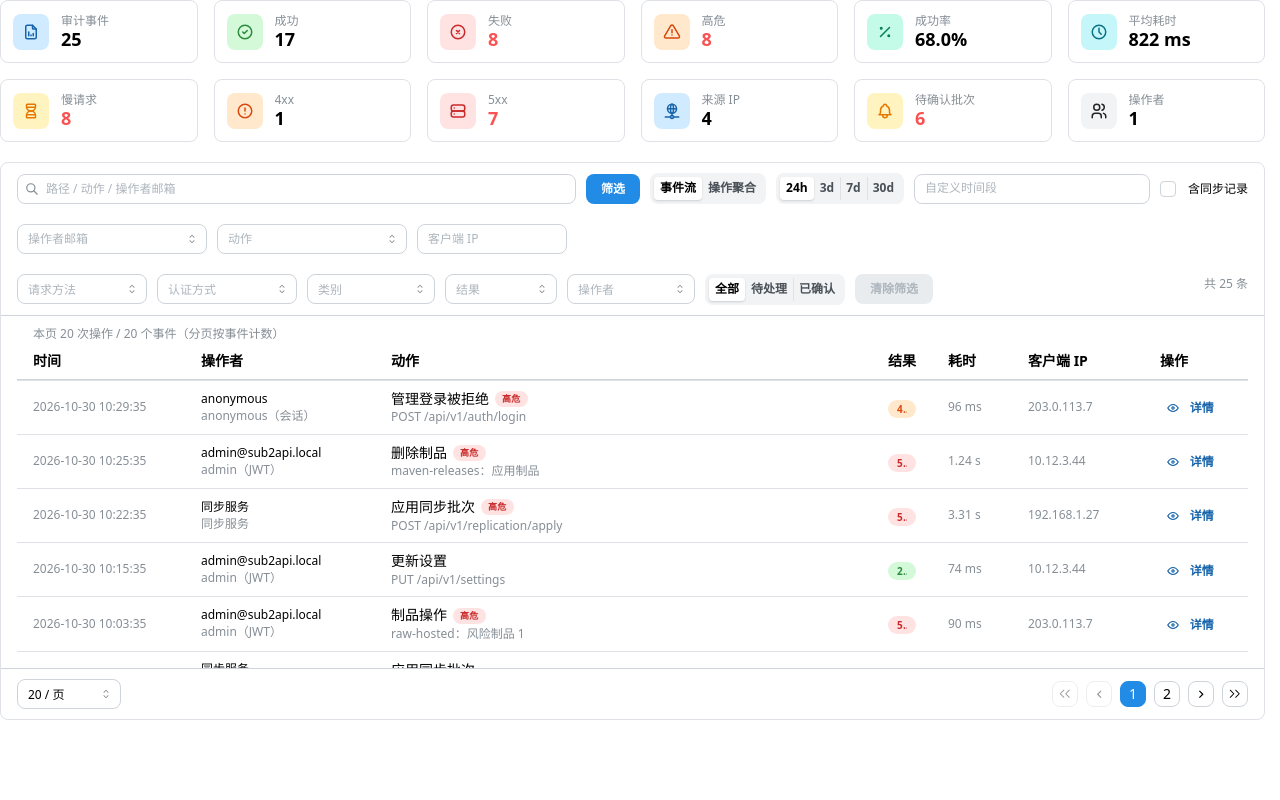
Test: 审计工作台（筛选与搜索） › 关键字搜索过滤列表，清除筛选可恢复
Type "不存在的对象" into the field with placeholder "路径 / 动作 / 操作者邮箱" at (296, 189), box x1=17 y1=174 x2=576 y2=204
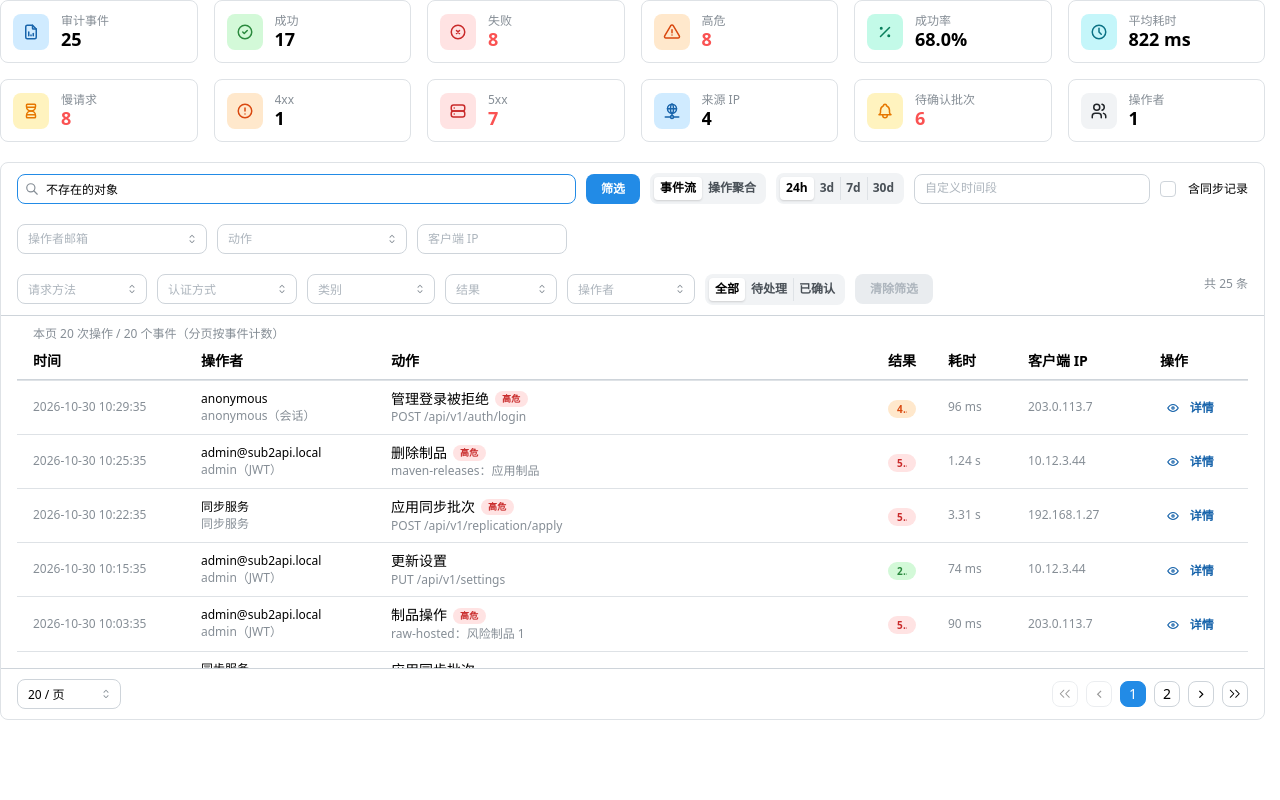
Click the button "筛选" at (613, 189), box x1=586 y1=174 x2=640 y2=204
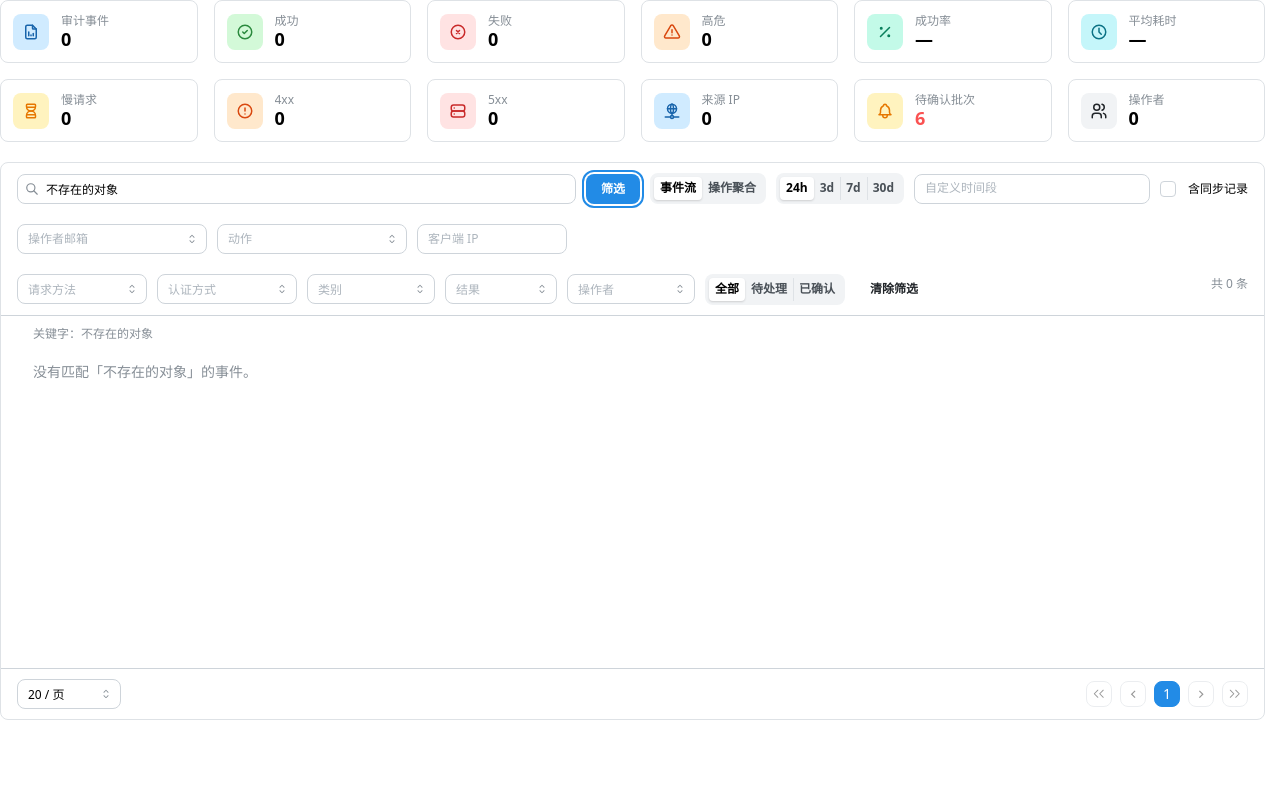
Expected: the text "共 0 条" is shown, x1=1211 y1=276 x2=1248 y2=293
Click the button "清除筛选" at (894, 289), box x1=855 y1=274 x2=933 y2=304
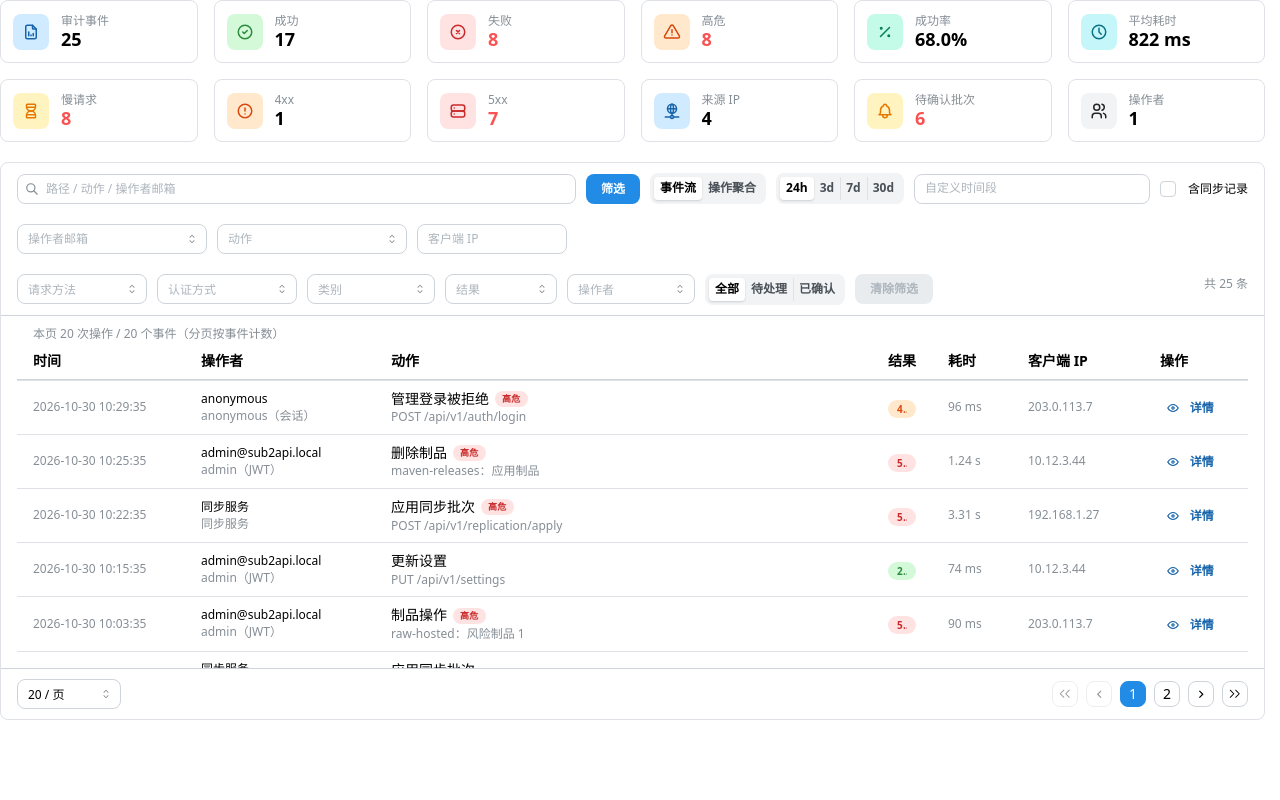
Result: the button with aria-label "审计事件：" is shown at x1=17 y1=380 x2=1248 y2=435
